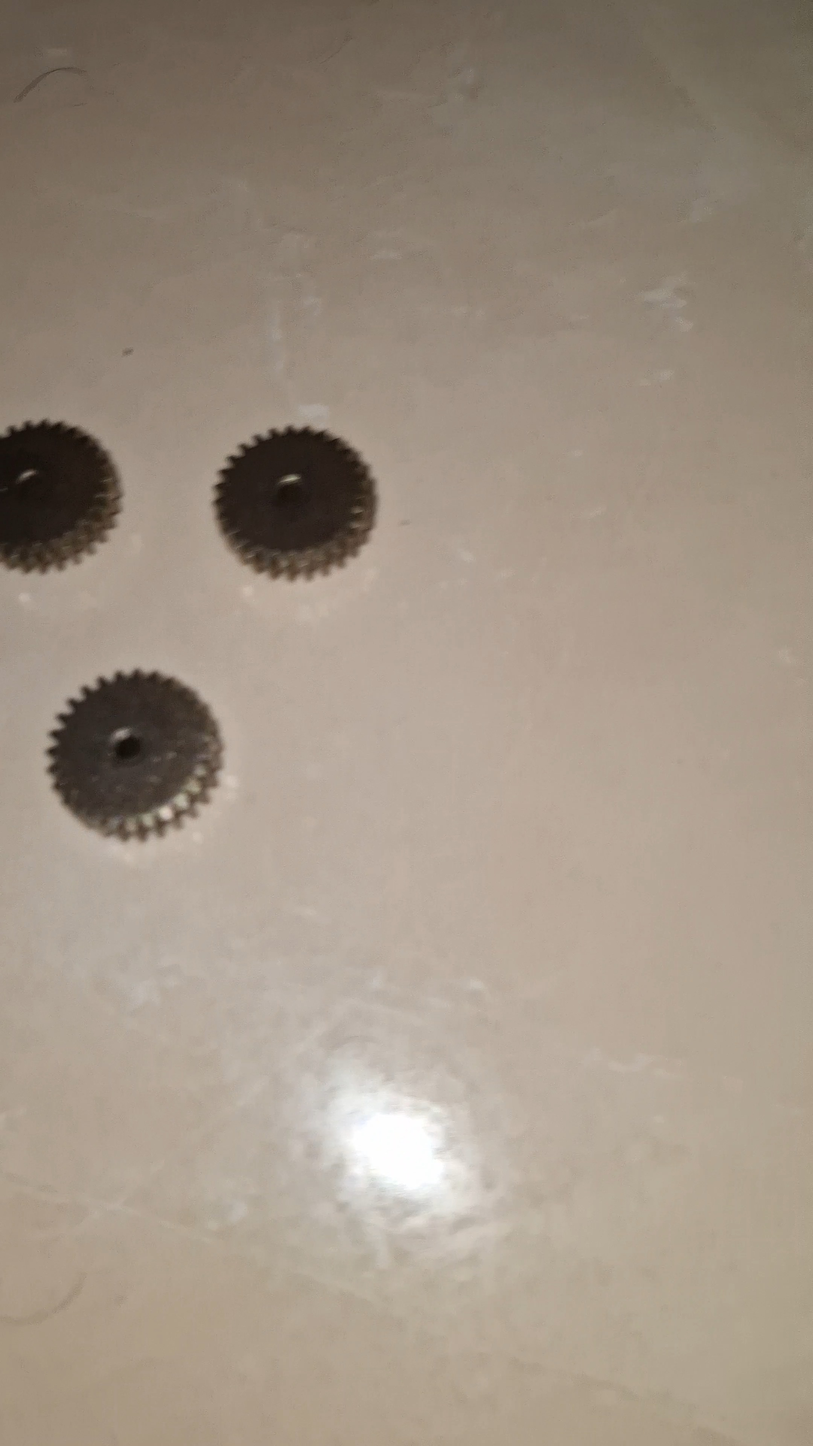spur gear: (48, 671, 222, 839), (215, 428, 376, 578), (0, 421, 120, 571)
